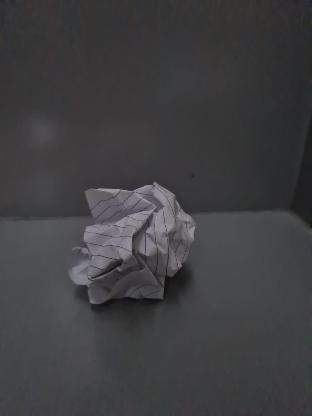Paper: (66, 178, 198, 308)
